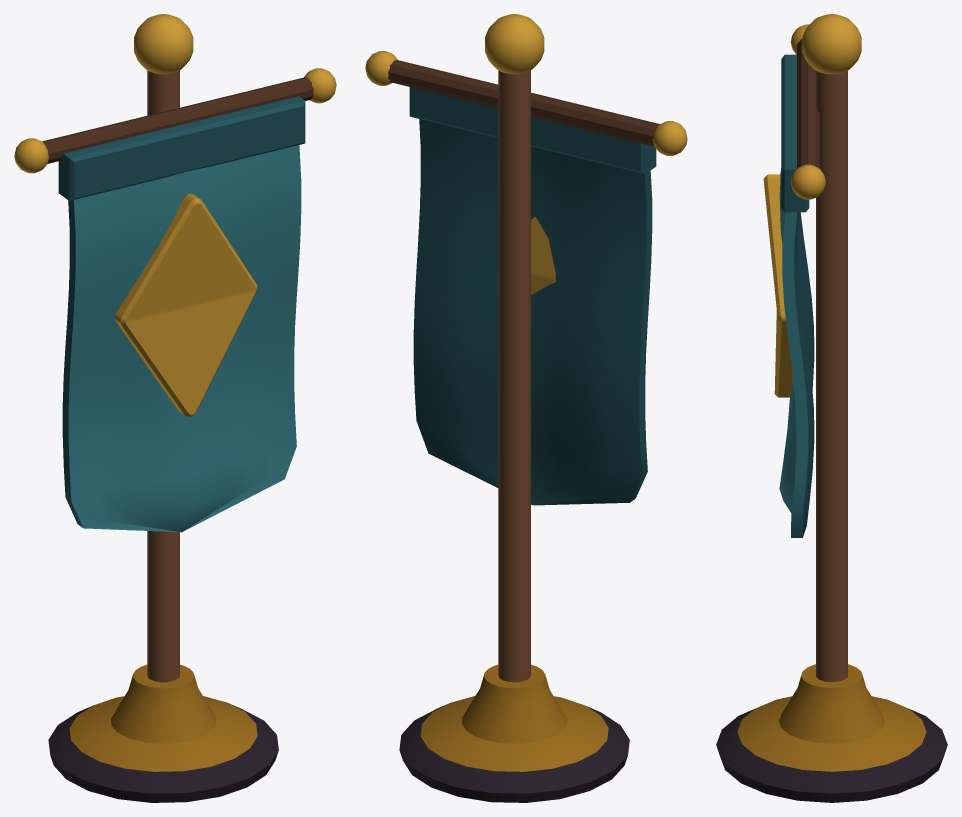
File: Banner_06.glb
The picture shows the model from 3 angles, left to right: view 1: azimuth 30°, elevation 25°; view 2: azimuth 150°, elevation 25°; view 3: azimuth 270°, elevation 25°; orthographic projection.
Visible parts, largest first — view 1: Banner_06; view 2: Banner_06; view 3: Banner_06.
Boxes of the visible parts, box(x1,y1,x2,y2) form: Banner_06: box(14, 14, 336, 802); Banner_06: box(365, 14, 687, 802); Banner_06: box(716, 14, 947, 802).
Size of the model in its own units: 3.1 by 6.89 by 1.96.
